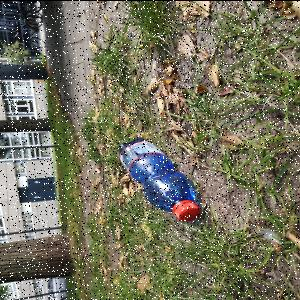Plastic-bottle: (118, 137, 203, 223)
